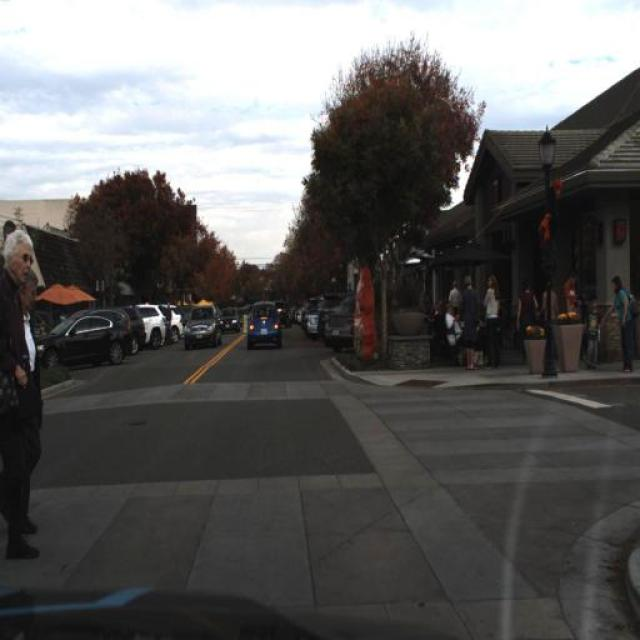car: (28, 312, 136, 376), (238, 292, 286, 358), (180, 300, 221, 356), (131, 299, 164, 350), (121, 300, 147, 356), (316, 290, 340, 346), (140, 300, 166, 350), (327, 297, 353, 345), (166, 300, 182, 336), (307, 303, 317, 339)
trafficLight: (1, 229, 43, 560), (609, 272, 635, 373), (516, 277, 540, 367), (461, 270, 481, 370), (539, 276, 560, 368), (561, 270, 580, 360), (582, 291, 602, 370), (484, 271, 498, 363), (445, 277, 464, 317), (442, 296, 458, 342), (299, 298, 307, 334)
